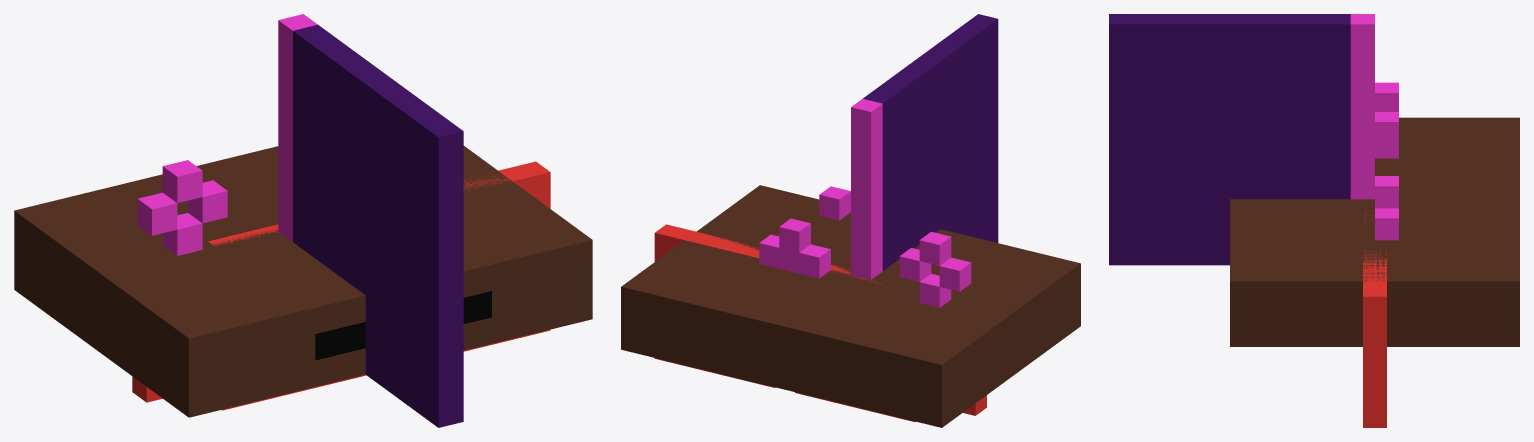
Rendered from crytalball.glb.
3 views of the same model, side by side, from view 1: azimuth 30°, elevation 25°; view 2: azimuth 150°, elevation 25°; view 3: azimuth 270°, elevation 25° (orthographic). The views are drawn at different scales.
Visible parts, largest first — view 1: base, circle-20, e (10), glitter, glasses, mouth; view 2: base, circle-20, glitter, glasses, e (10); view 3: circle-20, base, e (10), glasses, glitter.
Boxes of the visible parts, x1,y1,x2,y2 form: base: [14, 146, 592, 417]; circle-20: [278, 14, 463, 427]; e (10): [322, 46, 462, 427]; glitter: [137, 160, 227, 255]; glasses: [132, 161, 550, 410]; mouth: [315, 291, 491, 360]; base: [621, 185, 1080, 427]; circle-20: [851, 14, 998, 279]; glitter: [759, 186, 971, 307]; glasses: [654, 224, 986, 422]; e (10): [886, 14, 998, 242]; circle-20: [1109, 14, 1374, 265]; base: [1230, 117, 1519, 346]; e (10): [1109, 14, 1302, 265]; glasses: [1363, 201, 1386, 427]; glitter: [1375, 82, 1398, 240].
Bounding box in the file's own units: 17.5 × 14 × 17.
9 materials, 9 textured.
